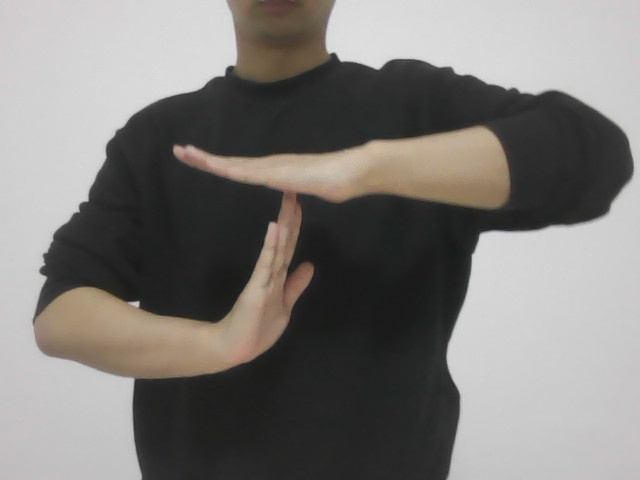stop: (157, 123, 398, 375)
